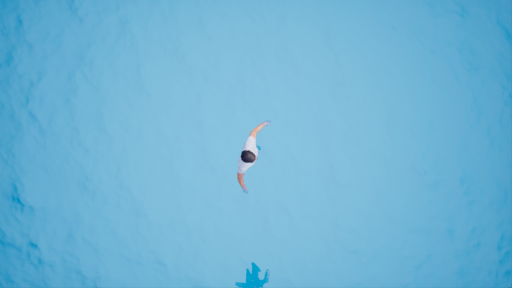person: (235, 103, 271, 189)
